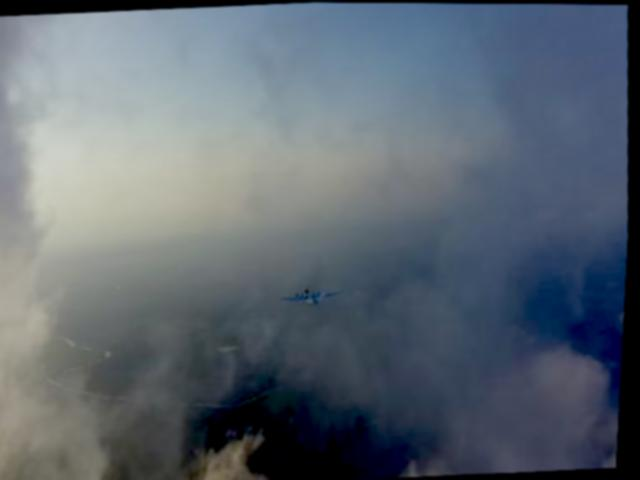uav: (281, 279, 344, 311)
